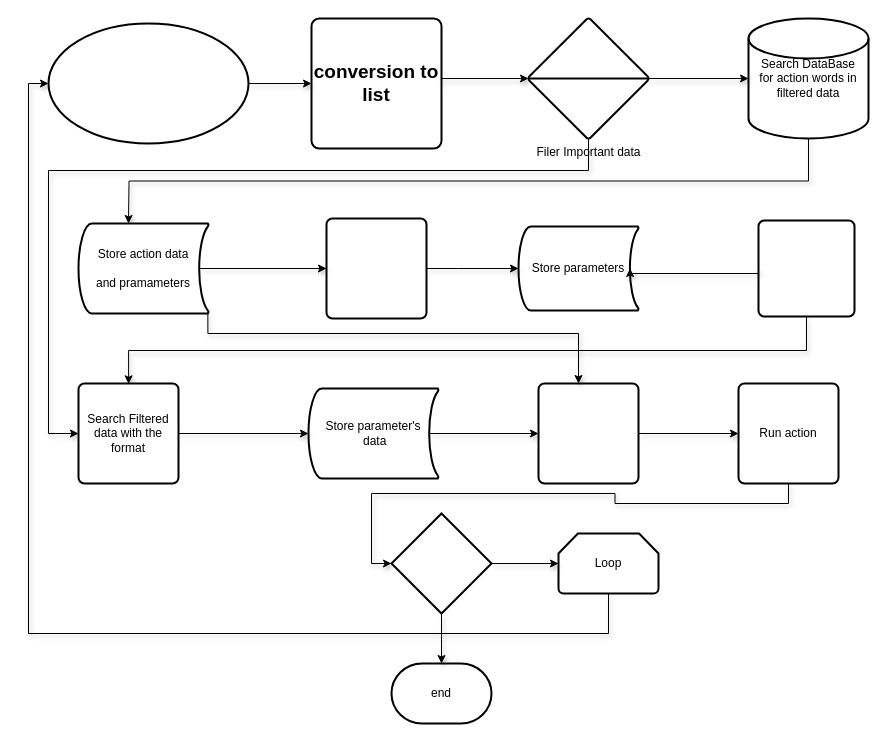
Some shapes in this 887 by 741 pixel diagram are drawn without their labels. Here are the shapes that lost their labels. From the top down, the centre of each, then its label:
At (148,83): "user input".
At (376,268): "Find all needed parameters for action".
At (806,268): "Find if there are exceptions to lay out of parameters".
At (588,433): "Input data into action's function".
At (441,563): "if not quit".
